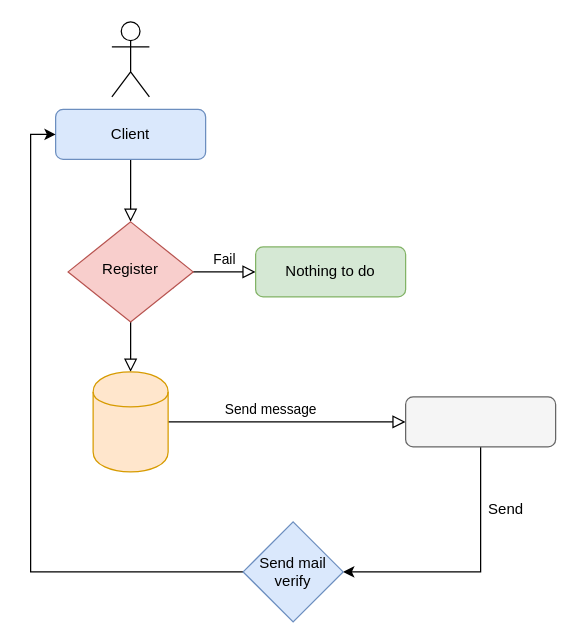
The diagram is 578 pixels wide and 644 high, and some of its shapes have lost their labels. Each missing label, with the box of its shape:
MongoDB: (92, 371, 168, 472)
RabbitMQ: (404, 396, 556, 447)
